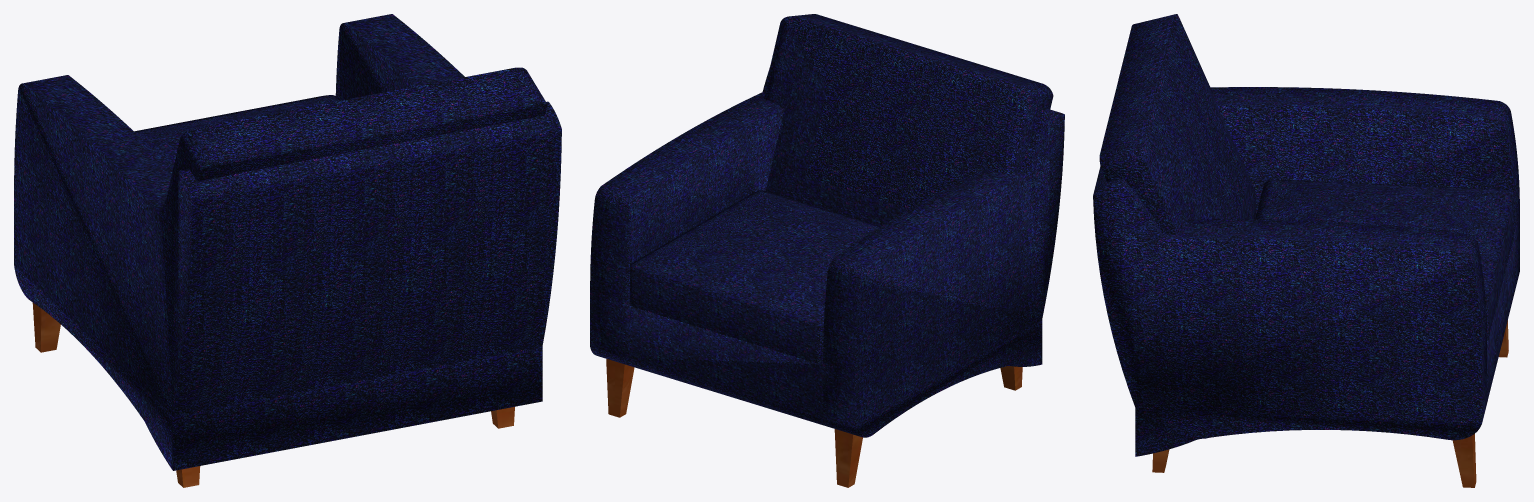
3 renders of one model, left to right at view 1: azimuth 30°, elevation 25°; view 2: azimuth 150°, elevation 25°; view 3: azimuth 270°, elevation 25°, orthographic. The views are drawn at different scales.
Parts seen in each view (by area): view 1: mesh9_mesh9-geometry, mesh10_mesh10-geometry, mesh3_mesh3-geometry; view 2: mesh9_mesh9-geometry, mesh10_mesh10-geometry, mesh2_mesh2-geometry, mesh3_mesh3-geometry; view 3: mesh9_mesh9-geometry, mesh10_mesh10-geometry, mesh2_mesh2-geometry.
Boxes of the visible parts, x1,y1,x2,y2 form: mesh9_mesh9-geometry: (14,14,561,470); mesh10_mesh10-geometry: (167,67,547,194); mesh3_mesh3-geometry: (32,302,60,352); mesh9_mesh9-geometry: (590,67,1064,437); mesh10_mesh10-geometry: (763,14,1053,226); mesh2_mesh2-geometry: (606,359,634,417); mesh3_mesh3-geometry: (834,429,862,487); mesh9_mesh9-geometry: (1093,87,1519,456); mesh10_mesh10-geometry: (1099,14,1256,234); mesh2_mesh2-geometry: (1452,434,1476,487).
Size of the model in its own units: 0.5829 by 0.5222 by 0.6225.
Materials: 3 (3 with a texture image).
